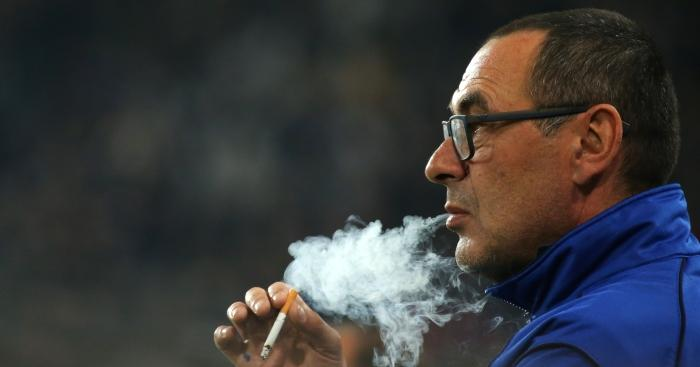cigarette: (259, 288, 302, 360)
